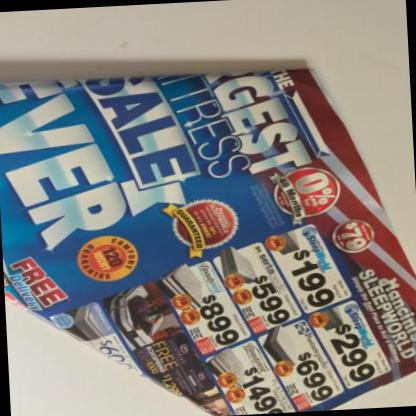Paper: (0, 68, 416, 415)
